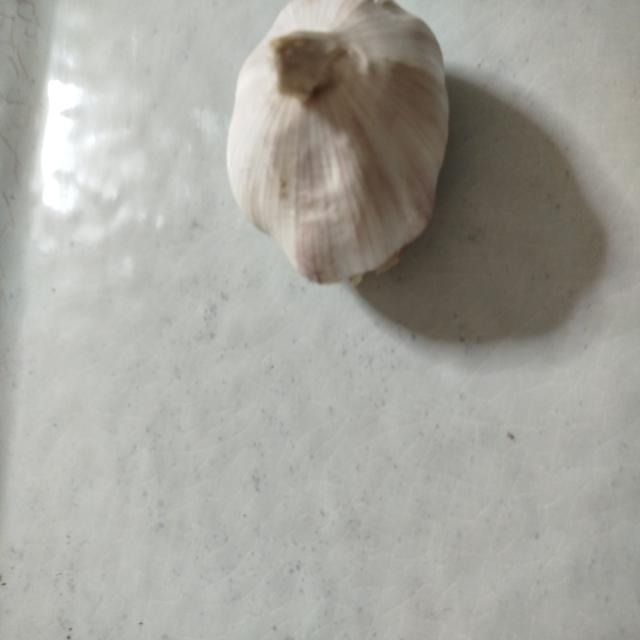garlic: (226, 0, 450, 287)
